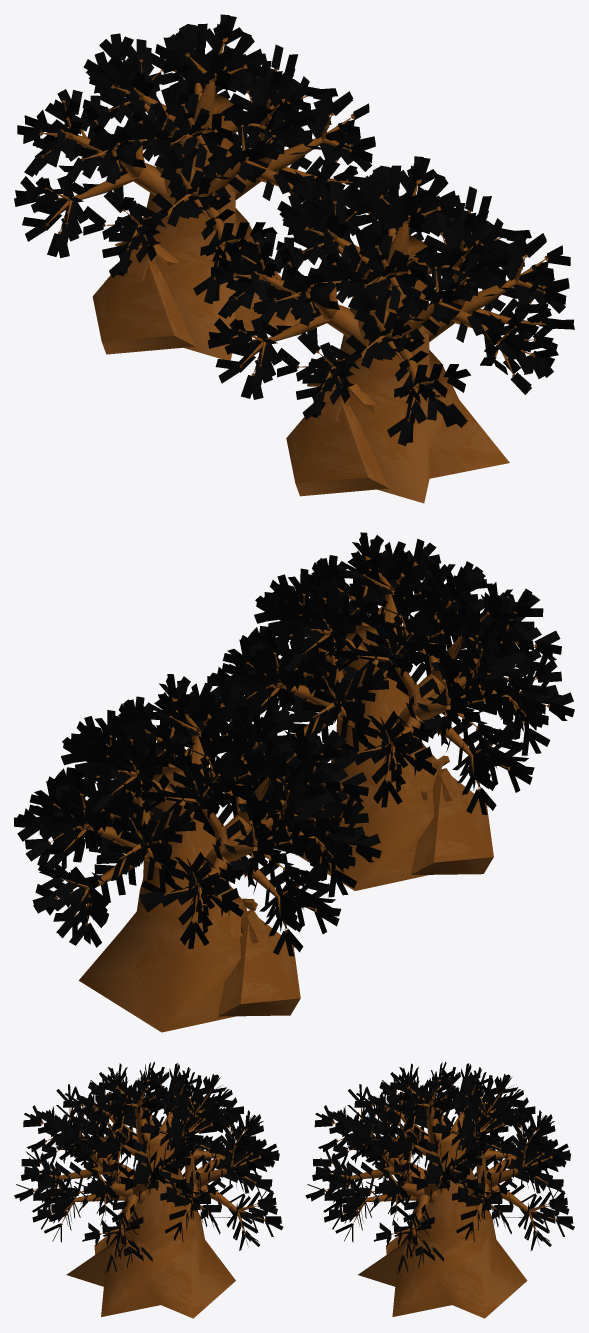
File: Tree.fbx
3 views of the same model, one above another, from view 1: azimuth 30°, elevation 25°; view 2: azimuth 150°, elevation 25°; view 3: azimuth 270°, elevation 25° (orthographic). The views are drawn at different scales.
Parts seen in each view (by area): view 1: cherryTree1Main, pCube13; view 2: pCube13, cherryTree1Main; view 3: cherryTree1Main, pCube13.
Part boxes in pixels (x1,y1,x2,y2): cherryTree1Main: (207,156,574,503); pCube13: (14,14,375,360); pCube13: (14,674,381,1032); cherryTree1Main: (207,532,574,890); cherryTree1Main: (14,1061,283,1318); pCube13: (305,1061,574,1318).
Size of the model in its own units: 30129 by 28342 by 61492.
2 materials, 1 textured.
